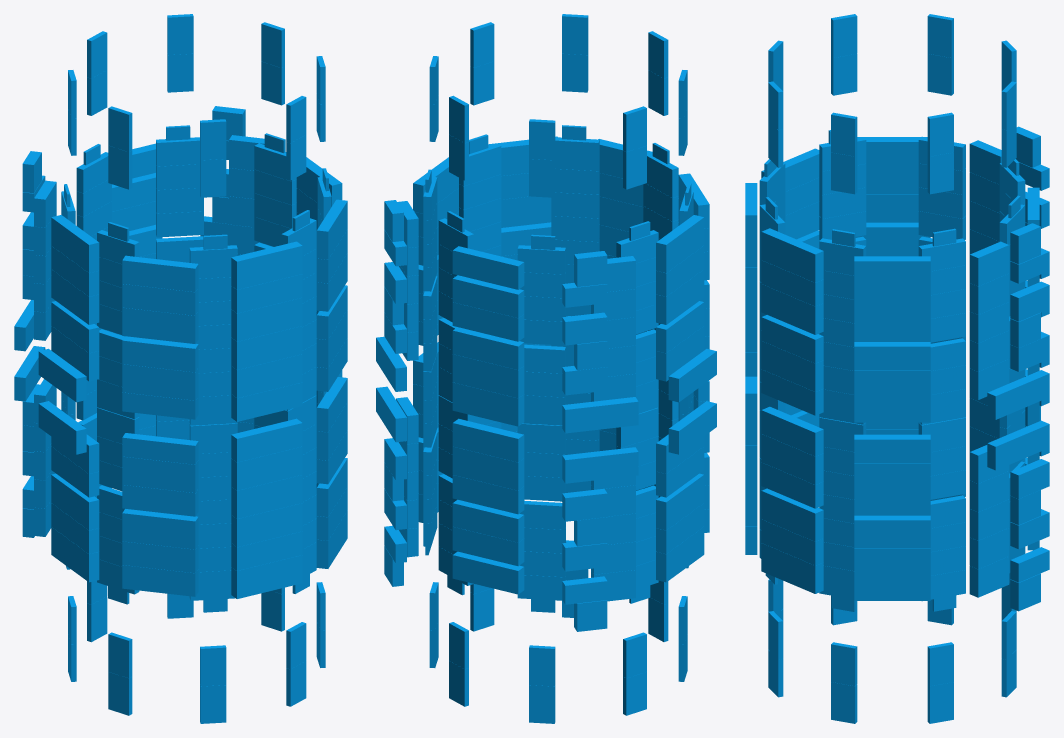
The model's file is rmuonbarrelinn.fbx.
The picture shows the model from 3 angles, left to right: view 1: azimuth 30°, elevation 25°; view 2: azimuth 150°, elevation 25°; view 3: azimuth 270°, elevation 25°; orthographic projection.
Visible parts, largest first — view 1: /tmp/importOpenSceneGraph961f2/RMuonBarrelInn.wrl_Group_Grou (×127); view 2: /tmp/importOpenSceneGraph961f2/RMuonBarrelInn.wrl_Group_Grou (×119); view 3: /tmp/importOpenSceneGraph961f2/RMuonBarrelInn.wrl_Group_Grou (×123).
Boxes of the visible parts, left/top/right/bottom form: /tmp/importOpenSceneGraph961f2/RMuonBarrelInn.wrl_Group_Grou (×127): left=14, top=14, right=347, bottom=723; /tmp/importOpenSceneGraph961f2/RMuonBarrelInn.wrl_Group_Grou (×119): left=376, top=14, right=716, bottom=723; /tmp/importOpenSceneGraph961f2/RMuonBarrelInn.wrl_Group_Grou (×123): left=745, top=14, right=1049, bottom=723.
Size of the model in its own units: 11018 by 23391 by 10666.
